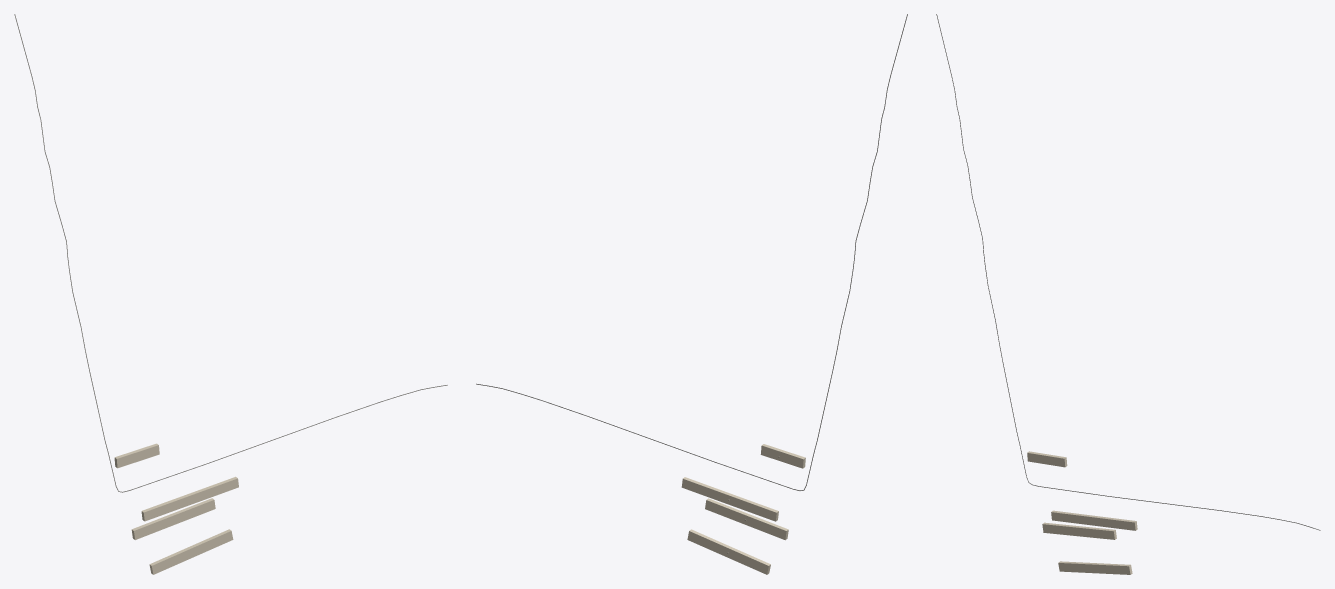
File: historic-palestine-12_31_3540_3258.glb
3 renders of one model, left to right at view 1: azimuth 30°, elevation 25°; view 2: azimuth 150°, elevation 25°; view 3: azimuth 330°, elevation 25°, orthographic. The views are drawn at different scales.
Parts seen in each view (by area): view 1: Building_.003, Road, Building_, Building_.001, Building_.002; view 2: Building_.003, Road, Building_, Building_.001, Building_.002; view 3: Road, Building_.003, Building_.001, Building_.
Boxes of the visible parts, x1,y1,x2,y2 form: Building_.003: [141, 476, 238, 521]; Road: [14, 14, 447, 492]; Building_: [149, 529, 233, 574]; Building_.001: [131, 498, 215, 539]; Building_.002: [114, 443, 159, 468]; Building_.003: [681, 477, 778, 521]; Road: [476, 14, 907, 490]; Building_: [687, 529, 770, 574]; Building_.001: [705, 498, 788, 540]; Building_.002: [760, 444, 805, 468]; Road: [936, 14, 1320, 530]; Building_.003: [1051, 510, 1137, 530]; Building_.001: [1042, 522, 1116, 539]; Building_: [1058, 561, 1132, 574].
Bounding box in the file's own units: 831 × 1091 × 8.7.
